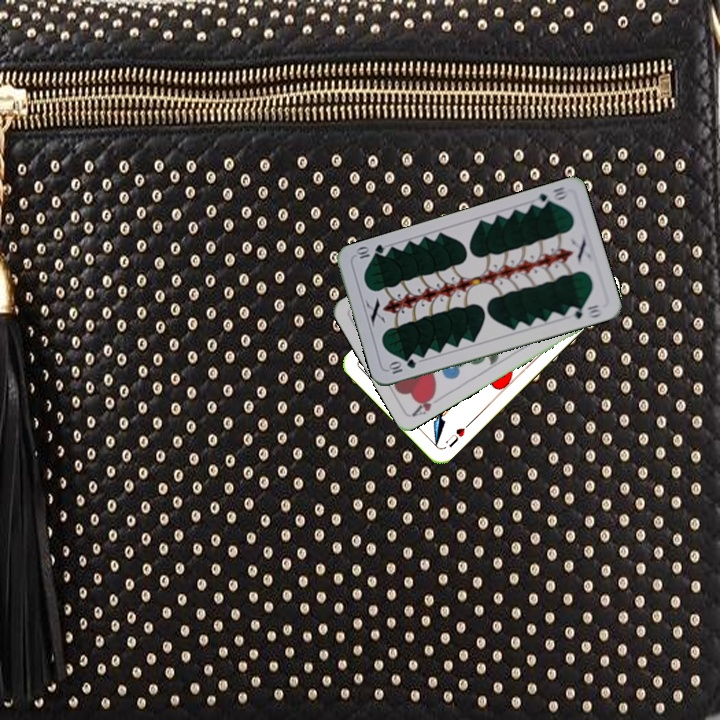G10: (530, 183, 571, 210), (385, 355, 419, 377)
HA: (408, 388, 445, 419)
HU: (441, 419, 473, 450)
